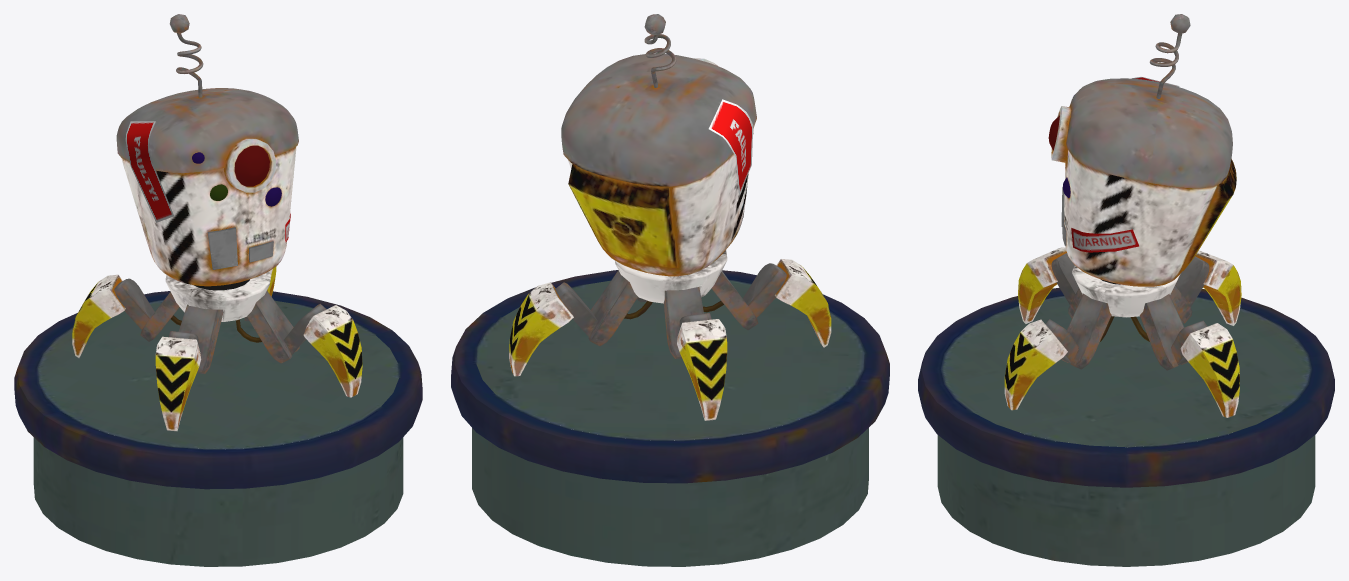
Rendered from little_faulty_bot.glb.
The picture shows the model from 3 angles, left to right: view 1: azimuth 30°, elevation 25°; view 2: azimuth 150°, elevation 25°; view 3: azimuth 270°, elevation 25°; orthographic projection. The views are drawn at different scales.
Parts seen in each view (by area): view 1: ground.001_1, Cube_13, ground_0, Cube.007_7, Cube.005_6, Cube.006_4, Cylinder.002_2, Plane_12, Cylinder.001_16, Cube.002_14, Cylinder_15, Cube.003_17; view 2: ground.001_1, Cube_13, ground_0, Cube.004_5, Cube.006_4, Cube.005_6, Cylinder.002_2, Plane_12, Cube.003_17; view 3: ground.001_1, Cube_13, ground_0, Cube.004_5, Cube.007_7, Cube.006_4, Cube.005_6, Cylinder.002_2, Plane_12, Cube.003_17, Cylinder_15.
Part boxes in pixels (box(x1,y1,x2,y2)): ground.001_1: box(33, 300, 403, 566); Cube_13: box(116, 88, 298, 286); ground_0: box(14, 291, 422, 489); Cube.007_7: box(247, 291, 362, 397); Cube.005_6: box(155, 304, 222, 431); Cube.006_4: box(72, 274, 179, 357); Cylinder.002_2: box(165, 271, 271, 321); Plane_12: box(125, 121, 290, 242); Cylinder.001_16: box(192, 145, 281, 206); Cube.002_14: box(207, 227, 273, 269); Cylinder_15: box(224, 138, 276, 192); Cube.003_17: box(169, 14, 203, 97); ground.001_1: box(472, 280, 868, 566); Cube_13: box(561, 54, 756, 276); ground_0: box(451, 270, 889, 483); Cube.004_5: box(509, 270, 637, 376); Cube.006_4: box(663, 287, 727, 420); Cube.005_6: box(711, 259, 831, 347); Cylinder.002_2: box(614, 250, 727, 303); Plane_12: box(708, 99, 753, 195); Cube.003_17: box(644, 14, 676, 87); ground.001_1: box(937, 296, 1315, 566); Cube_13: box(1064, 78, 1236, 286); ground_0: box(918, 287, 1334, 487); Cube.004_5: box(1139, 294, 1239, 417); Cube.007_7: box(1004, 293, 1111, 410); Cube.006_4: box(1170, 250, 1241, 325); Cube.005_6: box(1018, 247, 1082, 323); Cylinder.002_2: box(1072, 266, 1180, 317); Plane_12: box(1071, 77, 1179, 252); Cube.003_17: box(1149, 14, 1190, 98); Cylinder_15: box(1051, 106, 1071, 162).
Size of the model in its own units: 6.22 by 7.67 by 6.22.
Materials: 2 (2 with a texture image).
